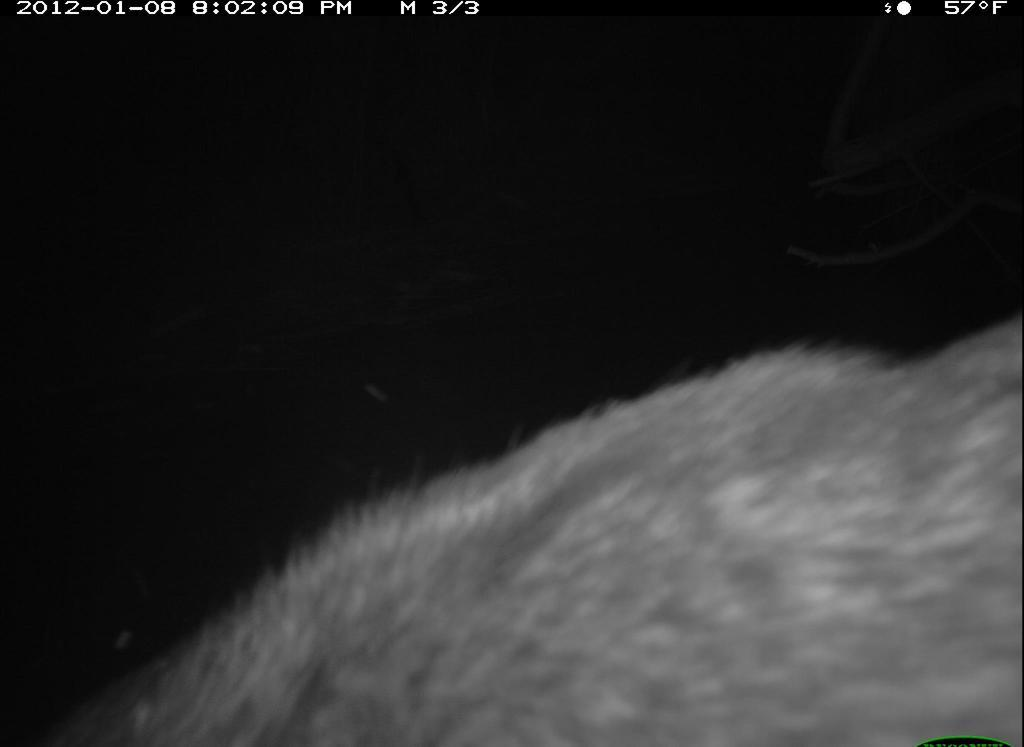raccoon: (54, 309, 1018, 747)
